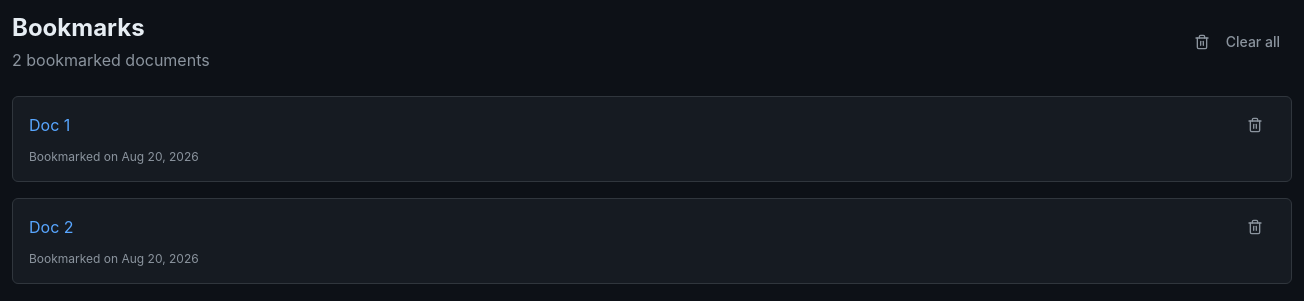
Test: Bookmarks Page › removes individual bookmark when clicking remove button
Click the button named "Remove bookmark" in the row of "Doc 1".
click(1255, 125)  # box 1235,113 -> 1275,137
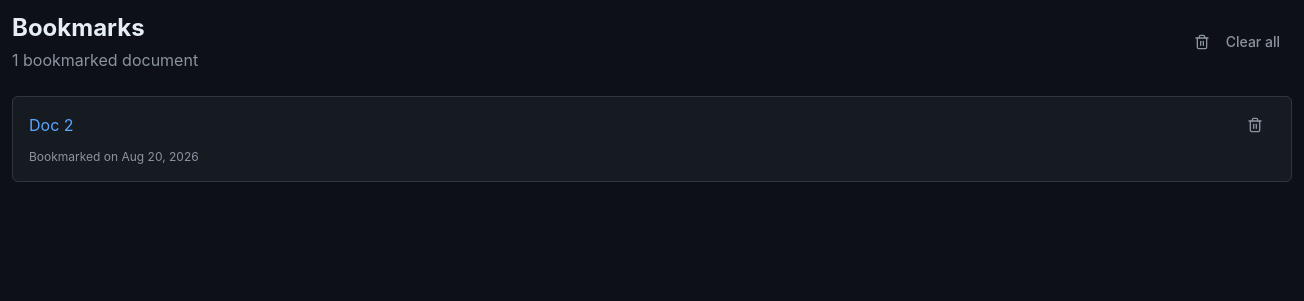
Expected: the link "Doc 2" is shown, 29,115 -> 74,135
Expected: the link "Doc 1" is gone
